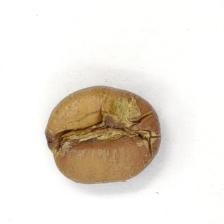NG: (53, 92, 154, 160)
